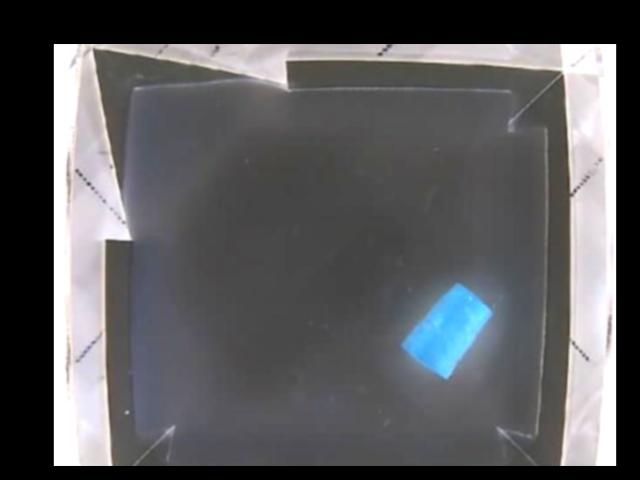Carrot: (400, 282, 491, 379)
